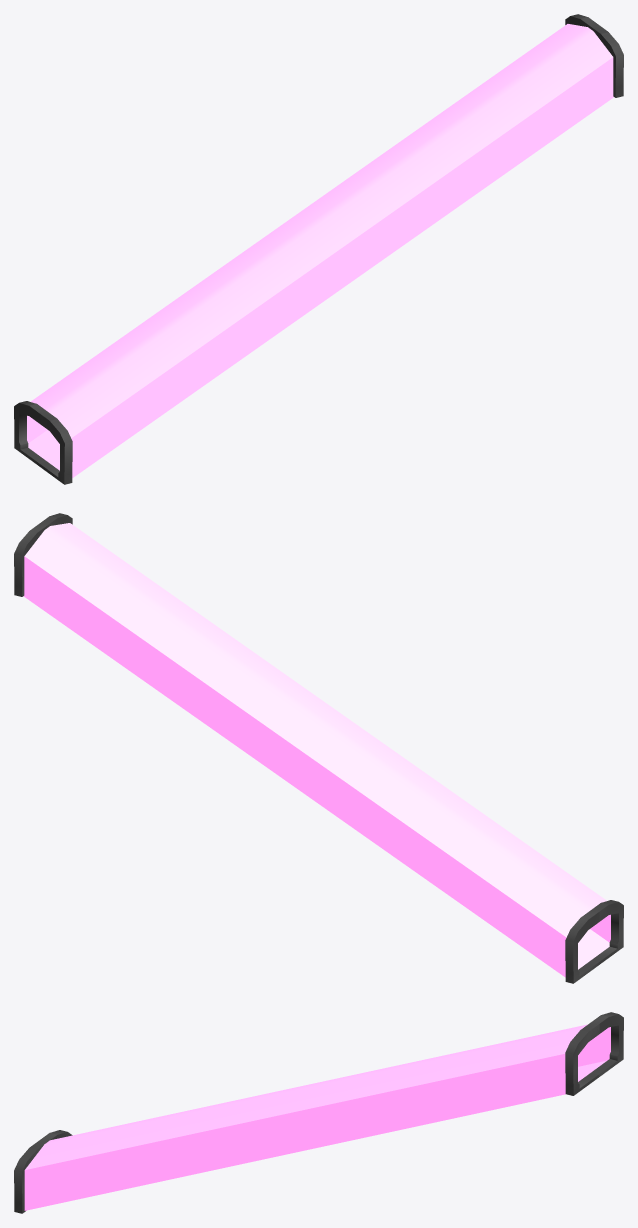
The model's file is Additions04.fbx.
3 renders of one model, top to bottom at view 1: azimuth 30°, elevation 25°; view 2: azimuth 150°, elevation 25°; view 3: azimuth 330°, elevation 25°, orthographic.
Visible parts, largest first — view 1: Box002, 1WindowOriginal006, 1WindowOriginal007; view 2: Box002, 1WindowOriginal006, 1WindowOriginal007; view 3: Box002, 1WindowOriginal007, 1WindowOriginal006.
Boxes of the visible parts, x1=… form: Box002: x1=27, y1=24, x2=613, y2=477; 1WindowOriginal006: x1=14, y1=401, x2=72, y2=484; 1WindowOriginal007: x1=565, y1=14, x2=623, y2=97; Box002: x1=23, y1=523, x2=610, y2=977; 1WindowOriginal006: x1=565, y1=900, x2=623, y2=983; 1WindowOriginal007: x1=14, y1=513, x2=72, y2=596; Box002: x1=24, y1=1024, x2=610, y2=1210; 1WindowOriginal007: x1=565, y1=1012, x2=623, y2=1095; 1WindowOriginal006: x1=14, y1=1130, x2=72, y2=1213.
Size of the model in its own units: 1395 by 728 by 220.
Materials: 2 (1 with a texture image).
